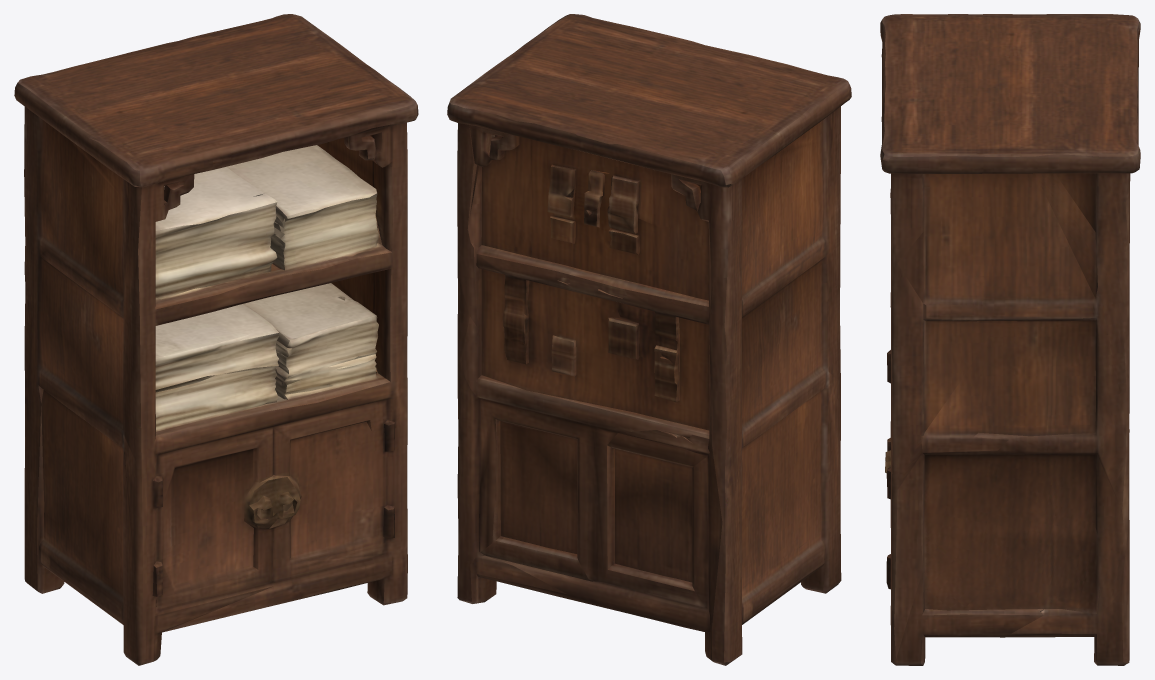
The model's file is cabinet.glb.
The picture shows the model from 3 angles, left to right: view 1: azimuth 30°, elevation 25°; view 2: azimuth 150°, elevation 25°; view 3: azimuth 270°, elevation 25°; orthographic projection. The views are drawn at different scales.
Visible parts, largest first — view 1: world; view 2: world; view 3: world.
Boxes of the visible parts, left/top/right/bottom form: world: left=14, top=14, right=418, bottom=665; world: left=447, top=14, right=851, bottom=665; world: left=880, top=14, right=1140, bottom=665.
Size of the model in its own units: 0.5983 by 1 by 0.4576.
1 material, 1 textured.
